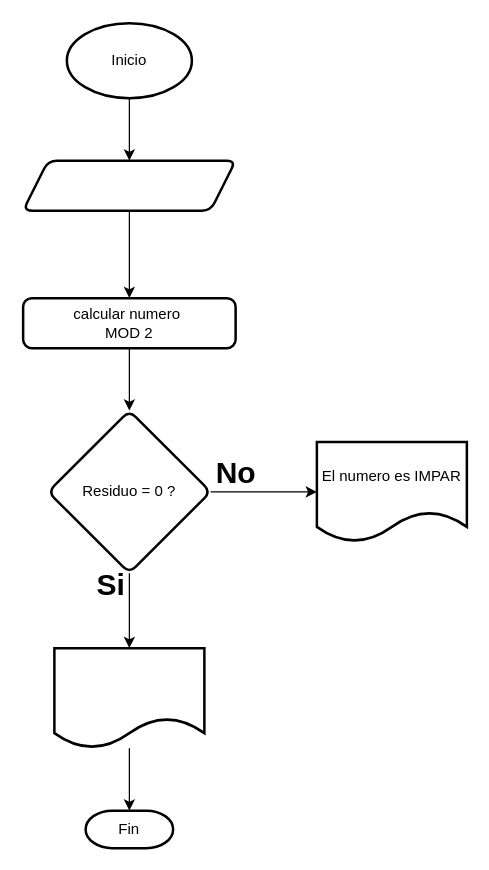
Image size: 489x870. Some labels were removed from this diagram. The centre of each missing label's shape, as x and y in pixels:
"El numero es PAR" belongs at point (128, 697).
"Ingrese un número" belongs at point (128, 185).
